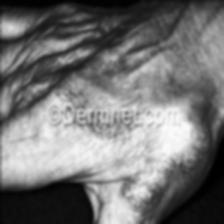Non-Cancerous Skin Condition: (0, 13, 180, 100), (72, 132, 217, 219)
